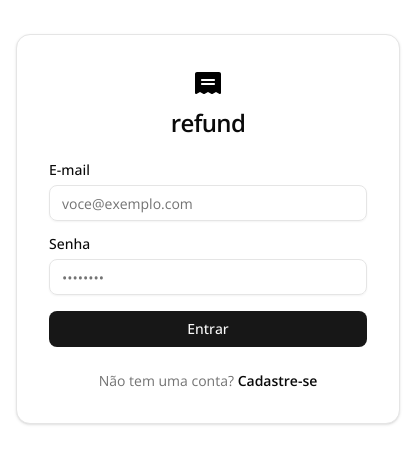
PageLogin › shows an error message and stays on the page when login fails
Type "ana@exemplo.com" into the field labelled "E-mail" at (208, 203), box 49,185 -> 367,221
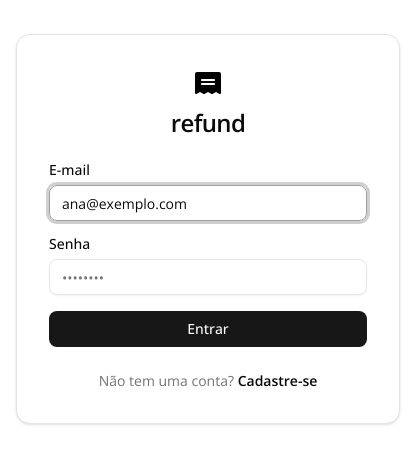
Type "secret123" into the password field labelled "Senha" at (208, 277), box 49,259 -> 367,295
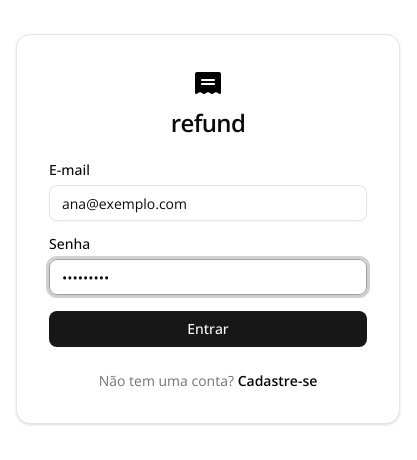
Click the button "Entrar" at (208, 329), box 49,311 -> 367,347
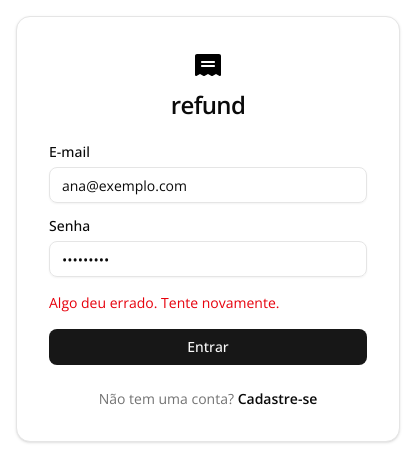
Expected: the text "Algo deu errado. Tente novamente." is shown, 49,293 -> 280,312
